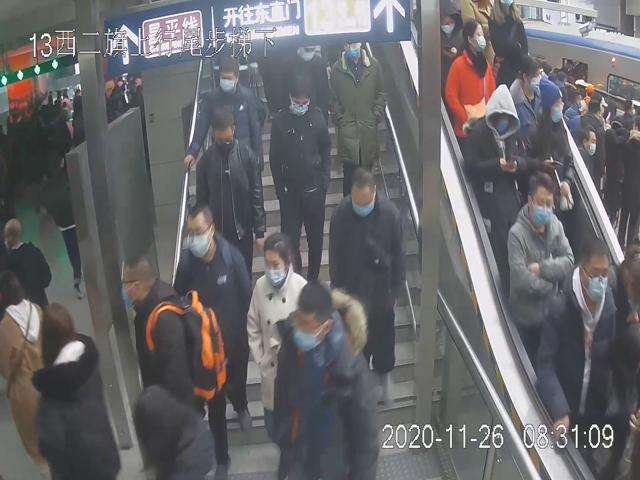person: (175, 204, 261, 476), (272, 281, 382, 480), (535, 237, 629, 453), (327, 166, 409, 408), (117, 248, 227, 419), (246, 233, 319, 453), (269, 75, 332, 287), (190, 106, 270, 256), (506, 169, 572, 348), (182, 56, 265, 188), (444, 13, 498, 143)
